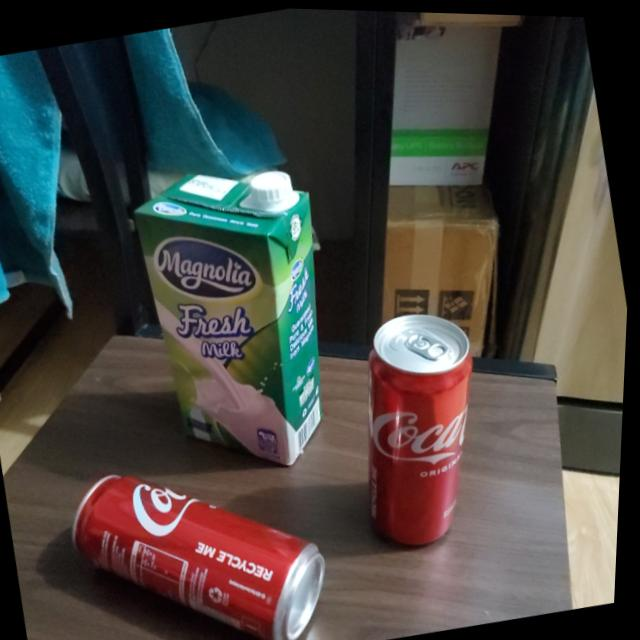coke: (59, 437, 344, 640), (337, 300, 511, 550)
milk: (118, 143, 364, 488)
